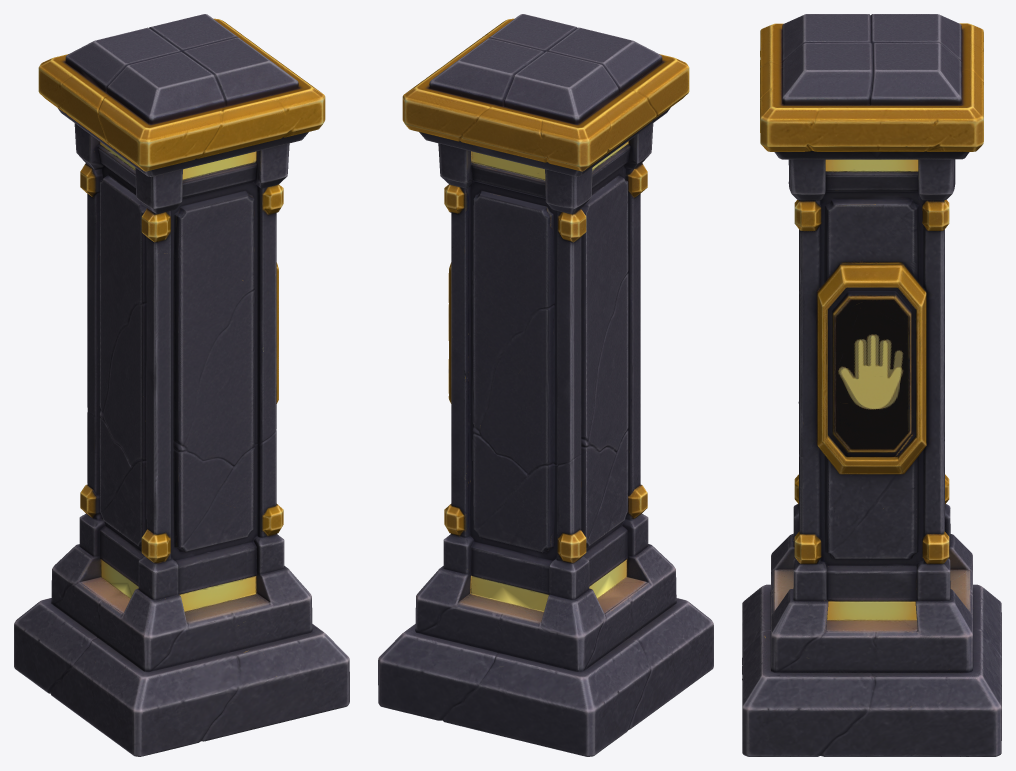
The model's file is push.glb.
3 views of the same model, side by side, from view 1: azimuth 30°, elevation 25°; view 2: azimuth 150°, elevation 25°; view 3: azimuth 270°, elevation 25° (orthographic). The views are drawn at different scales.
Size of the model in its own units: 0.678 by 1.9 by 0.6779.
Materials: 1 (1 with a texture image).
